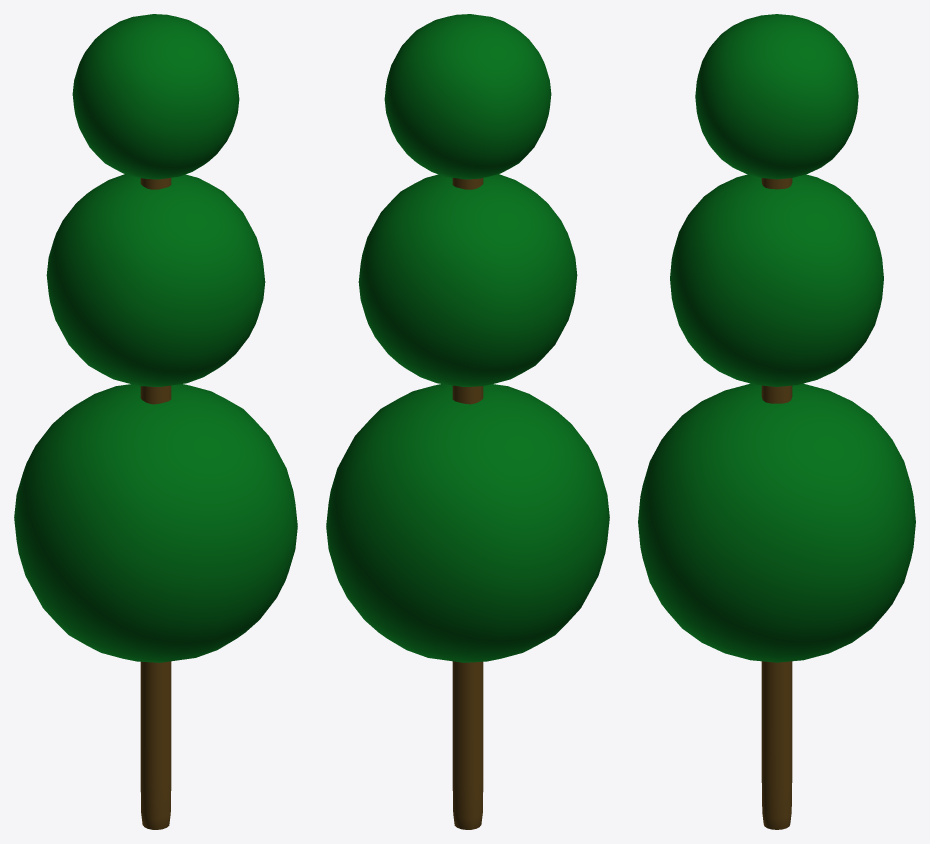
The model's file is Hedge_2.fbx.
The picture shows the model from 3 angles, left to right: view 1: azimuth 30°, elevation 25°; view 2: azimuth 150°, elevation 25°; view 3: azimuth 270°, elevation 25°; orthographic projection.
Visible parts, largest first — view 1: polySurface1; view 2: polySurface1; view 3: polySurface1.
Boxes of the visible parts, bbox=[...] form: polySurface1: bbox=[14, 14, 297, 829]; polySurface1: bbox=[326, 14, 609, 829]; polySurface1: bbox=[638, 14, 915, 829].
Bounding box in the file's own units: 109 × 347 × 109.
